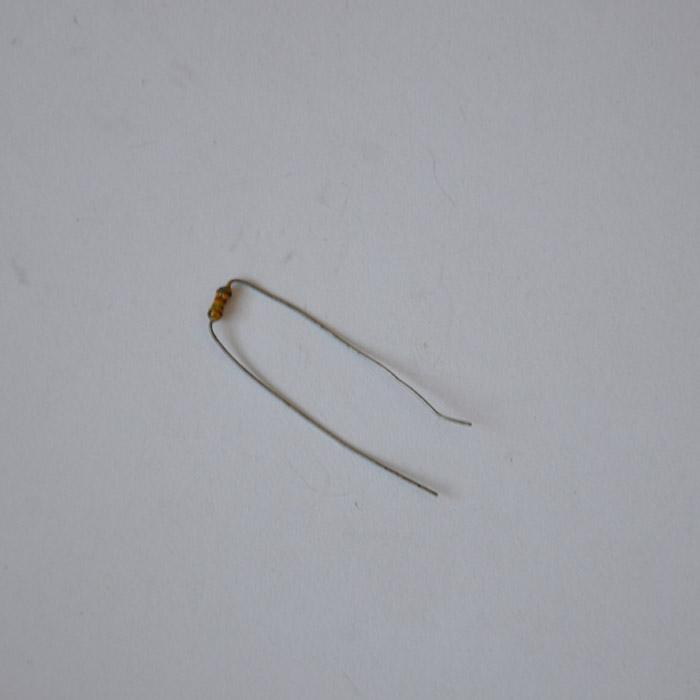resistor: (202, 280, 237, 325)
